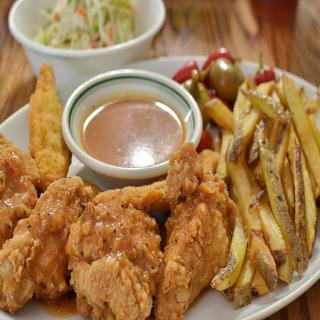tomato: (256, 49, 276, 80)
